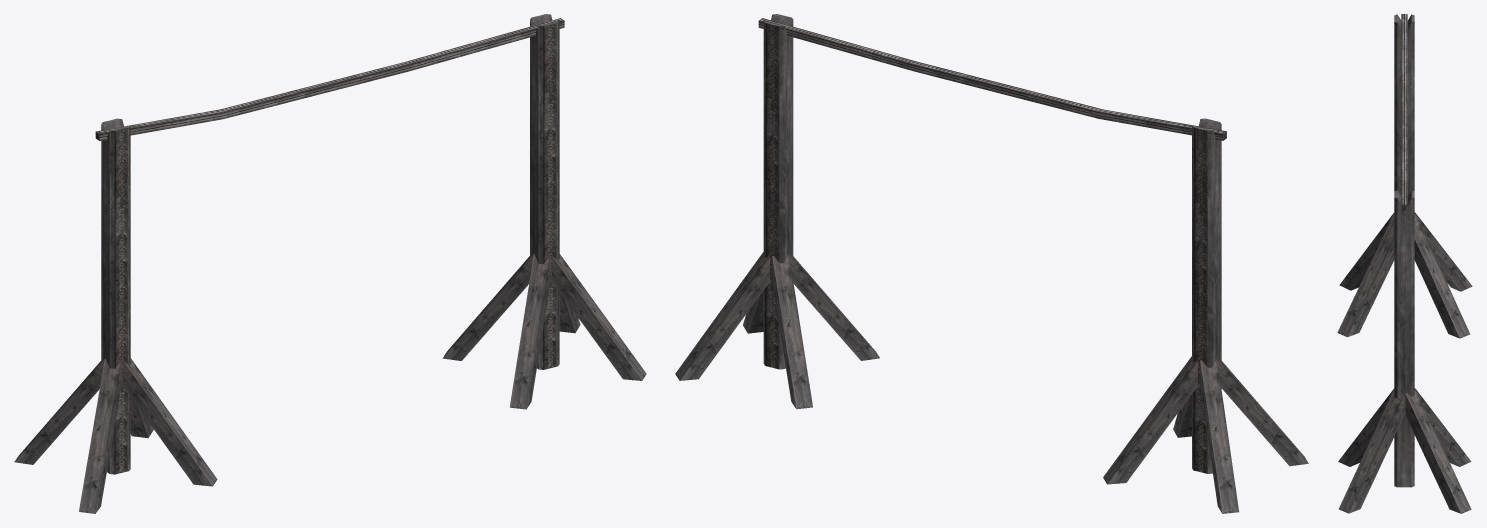
The model's file is tavern_cookerHolder.dae.
The picture shows the model from 3 angles, left to right: view 1: azimuth 30°, elevation 25°; view 2: azimuth 150°, elevation 25°; view 3: azimuth 270°, elevation 25°; orthographic projection. The views are drawn at different scales.
Parts seen in each view (by area): view 1: Default_Layer; view 2: Default_Layer; view 3: Default_Layer.
Boxes of the visible parts, <box> form: Default_Layer: <box>14,14,646,513</box>; Default_Layer: <box>675,14,1308,513</box>; Default_Layer: <box>1337,14,1472,513</box>.
Size of the model in its own units: 10.89 by 6.35 by 2.67.
